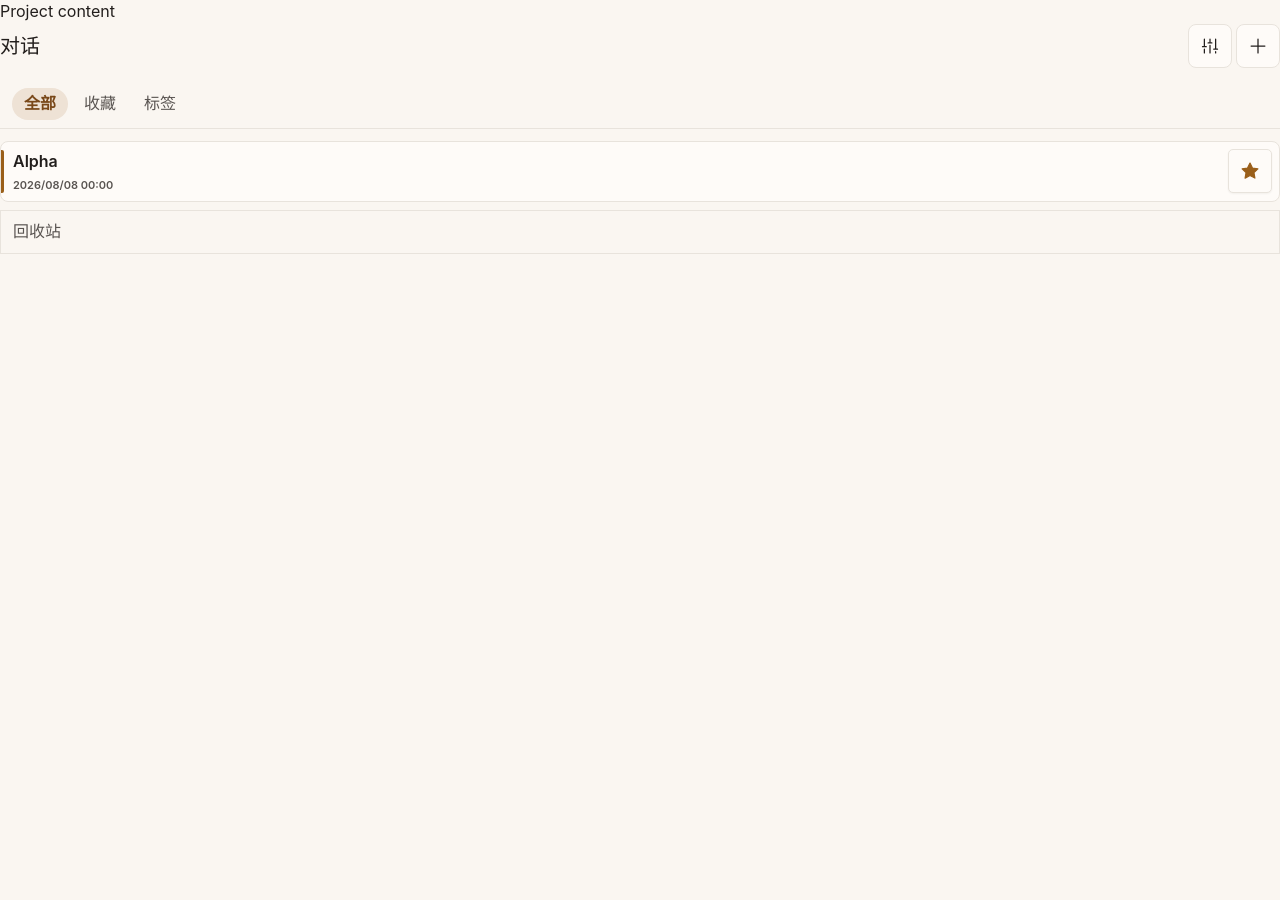
thread favorites UI › opens a new conversation from the header control or Cmd+N and keeps 回收站 off the tablist
Expected: the button "Alpha 2026/08/08 00:00" is shown, [0, 140, 1279, 202]
Click the button named "新对话" at (1258, 46), box [1236, 24, 1279, 68]
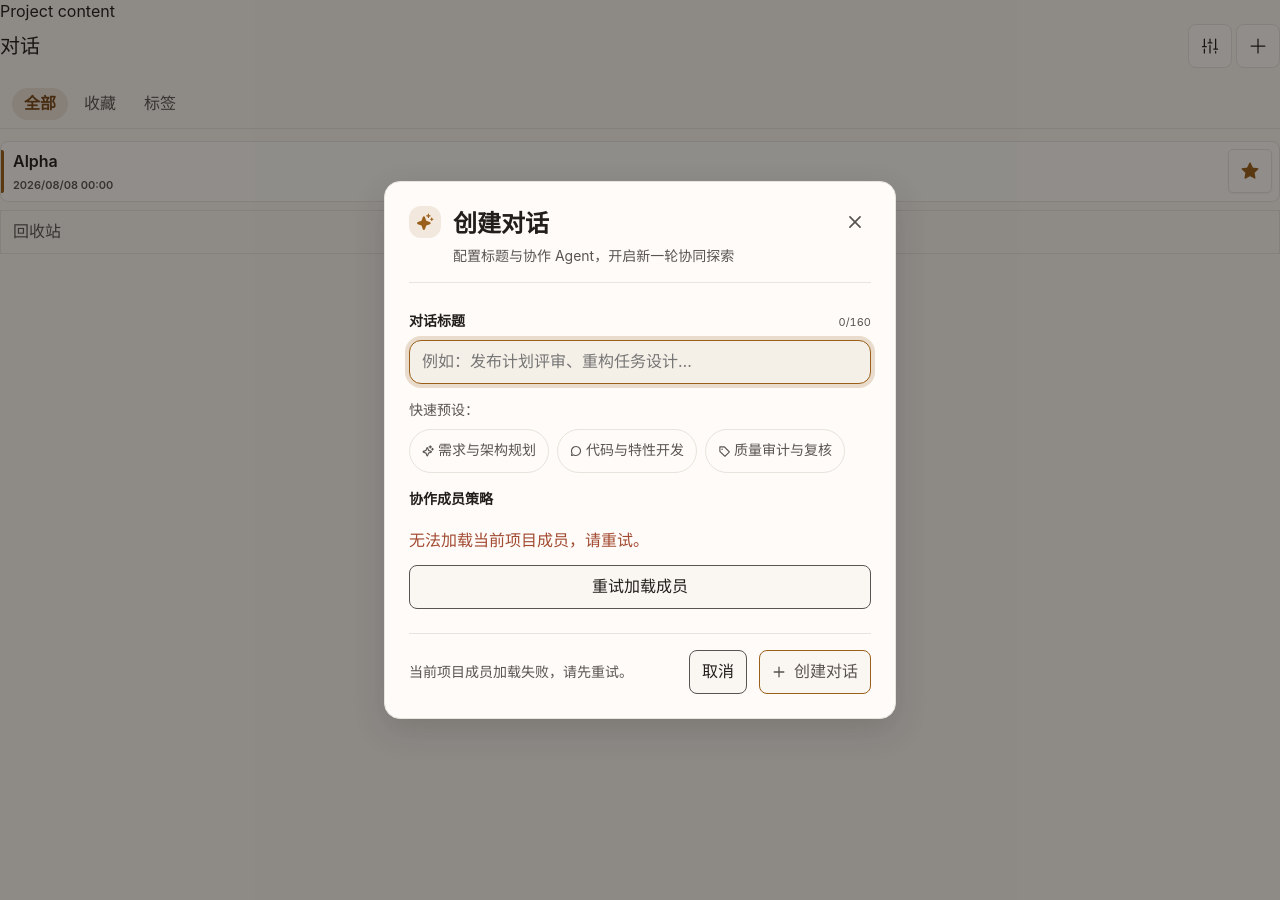
Result: the dialog "创建对话" is shown at [384, 181, 896, 719]
Press Escape
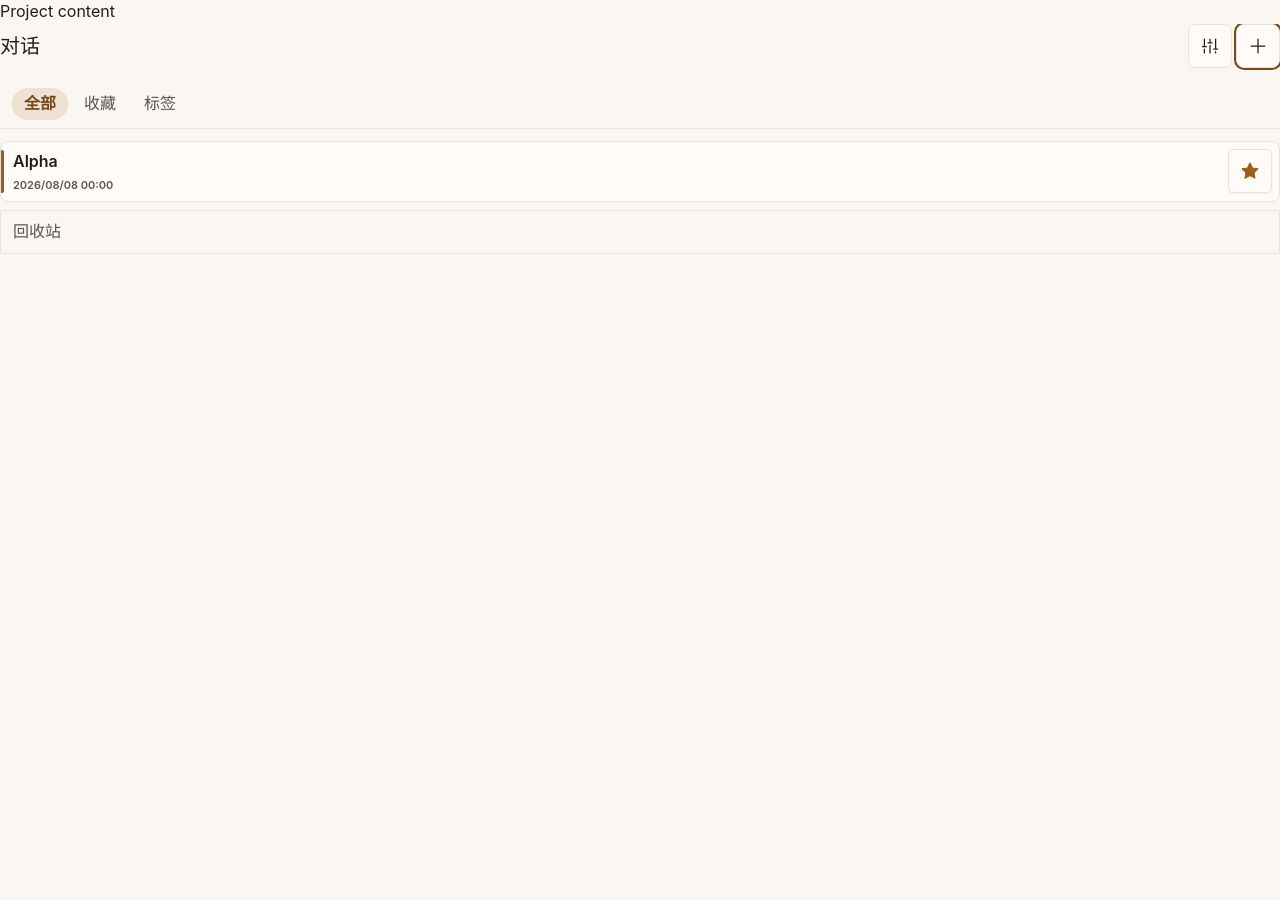
Result: the heading "创建对话" is gone
Type keys "{Control>}n{/Control}"
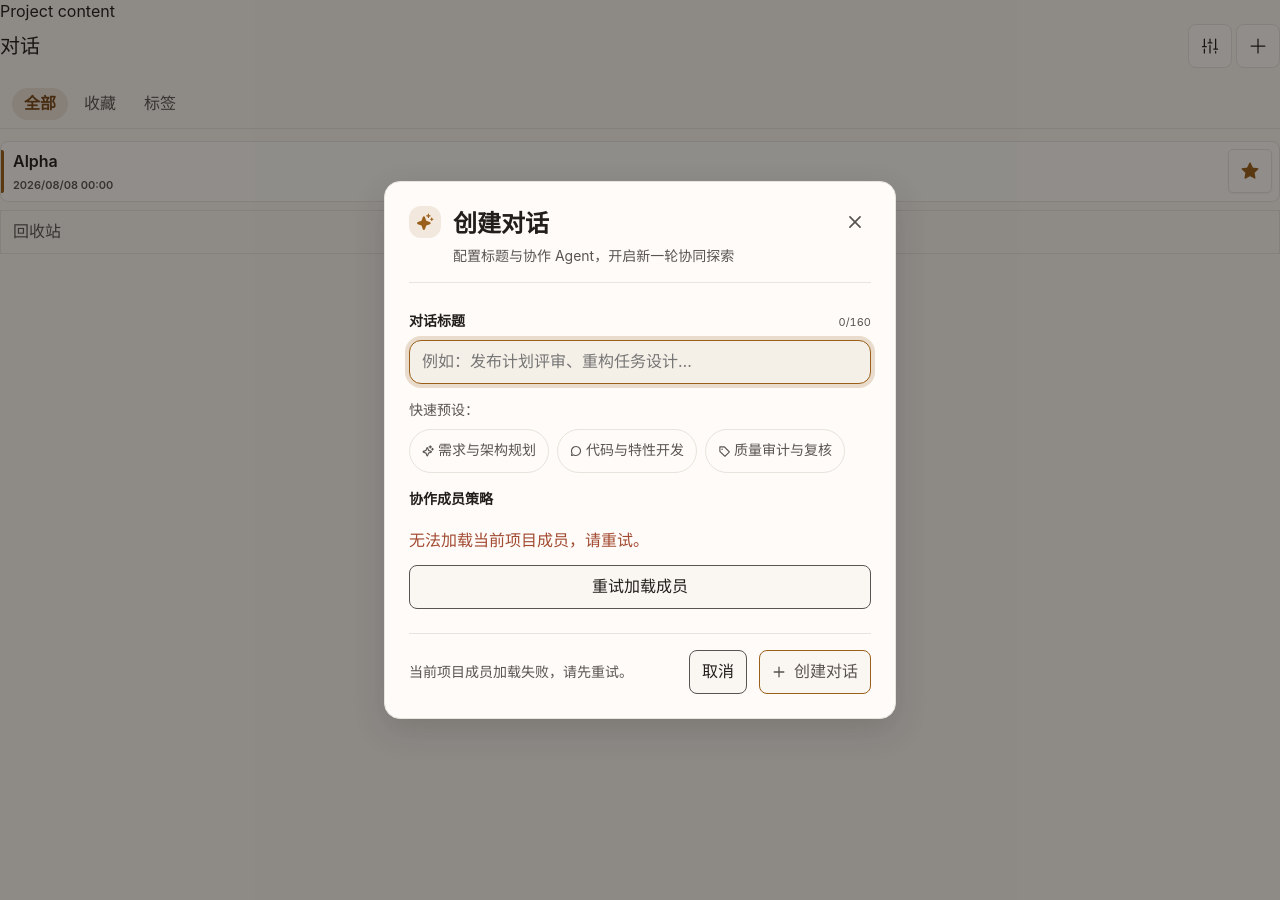
Result: the dialog "创建对话" is shown at [384, 181, 896, 719]
